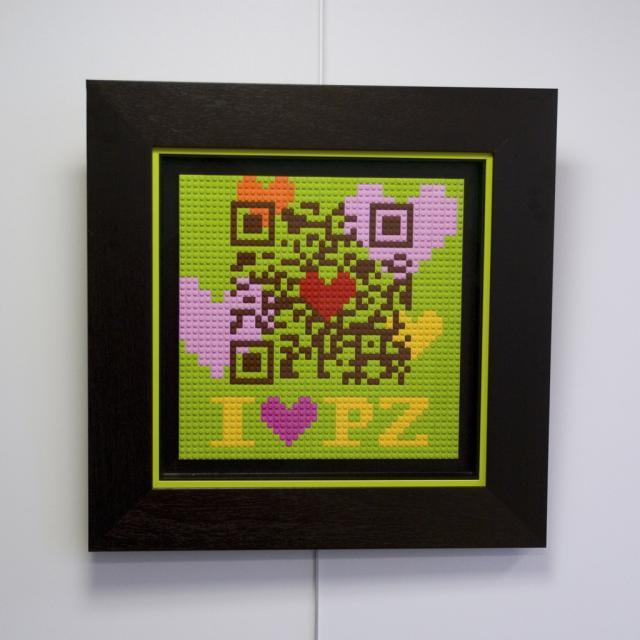qrcode: (231, 203, 413, 386)
